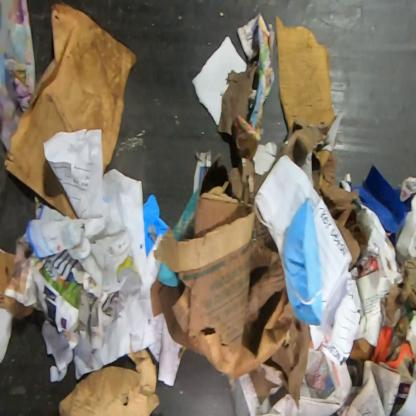cardboard: (3, 1, 138, 219), (274, 14, 338, 130), (57, 348, 161, 415), (217, 60, 258, 136), (380, 257, 415, 342), (0, 249, 35, 321), (228, 155, 269, 205), (231, 112, 265, 161), (348, 337, 375, 361)
soft_plastic: (143, 193, 170, 258), (157, 262, 182, 287)
